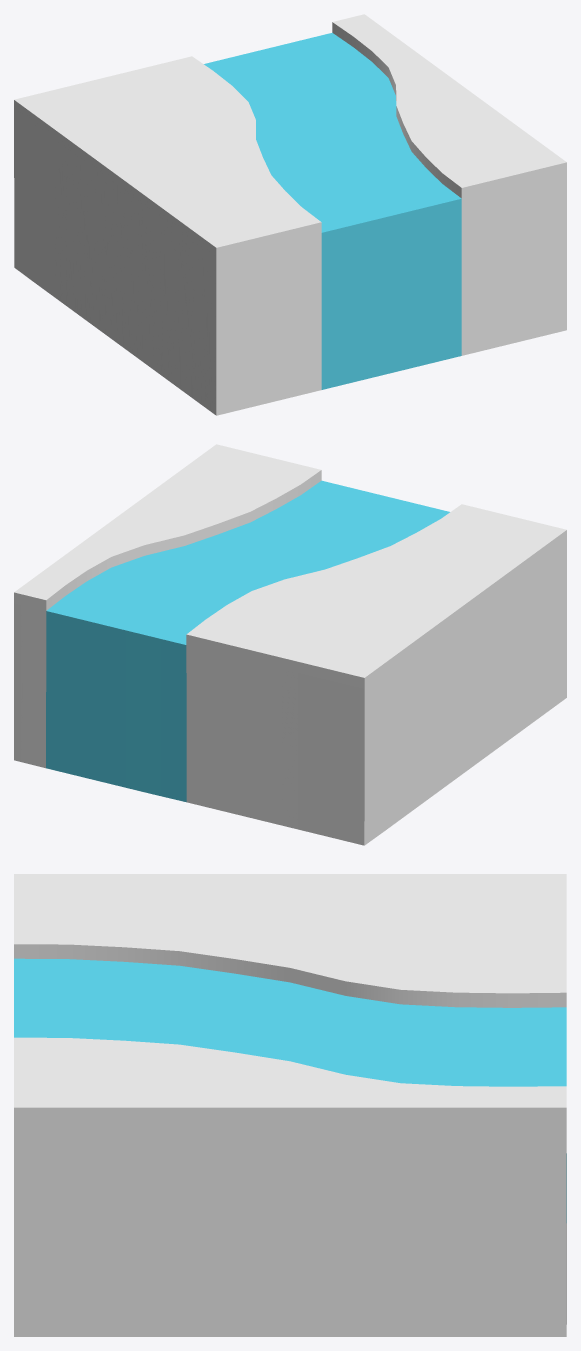
The model's file is miti5.fbx.
3 views of the same model, one above another, from view 1: azimuth 30°, elevation 25°; view 2: azimuth 150°, elevation 25°; view 3: azimuth 270°, elevation 25° (orthographic). The views are drawn at different scales.
Parts seen in each view (by area): view 1: pCube2; view 2: pCube2; view 3: pCube2.
Boxes of the visible parts, x1,y1,x2,y2 form: pCube2: (14,14,566,415); pCube2: (14,444,566,845); pCube2: (14,874,566,1336).
Size of the model in its own units: 24.03 by 11 by 24.05.
Materials: 1 (1 with a texture image).
